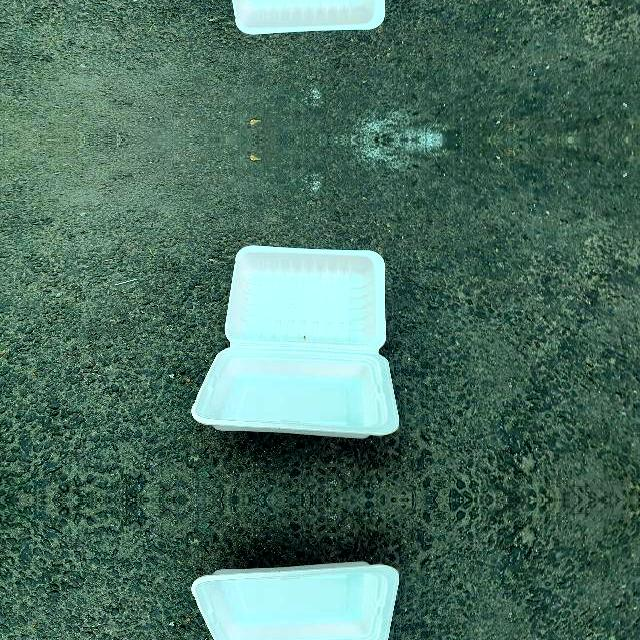Styrofoam: (190, 245, 400, 440), (191, 245, 399, 438), (189, 560, 400, 640), (191, 562, 399, 640)
